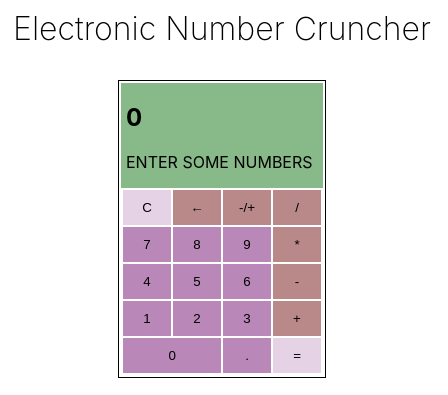
check sum of two numbers
Click the button "1".
click(147, 318)  # box [122, 300, 172, 337]
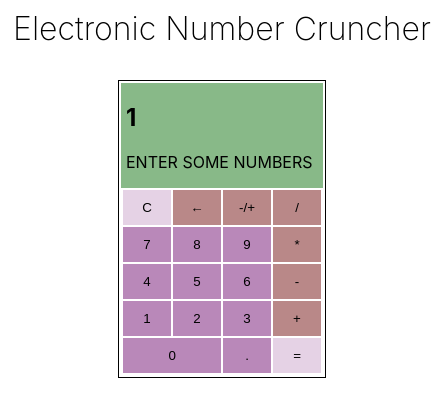
Click the button "+".
click(297, 318)  # box [272, 300, 322, 337]
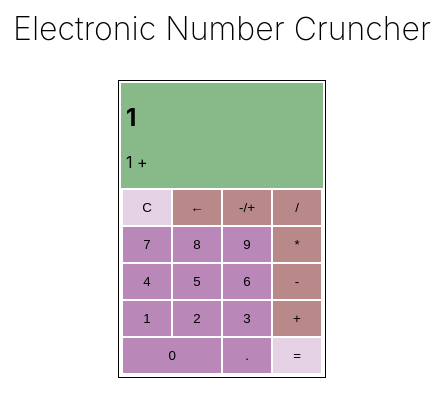
Click the button "1".
click(147, 318)  # box [122, 300, 172, 337]
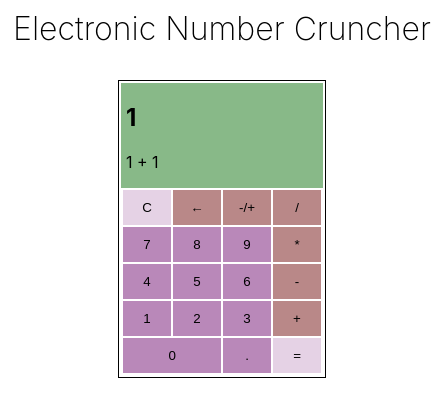
Click the button "=".
click(297, 355)  # box [272, 337, 322, 374]
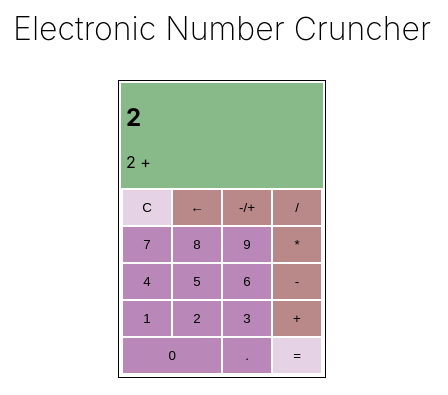
Result: the heading titled "display-numbers" reads "2" at [126, 103, 141, 132]
